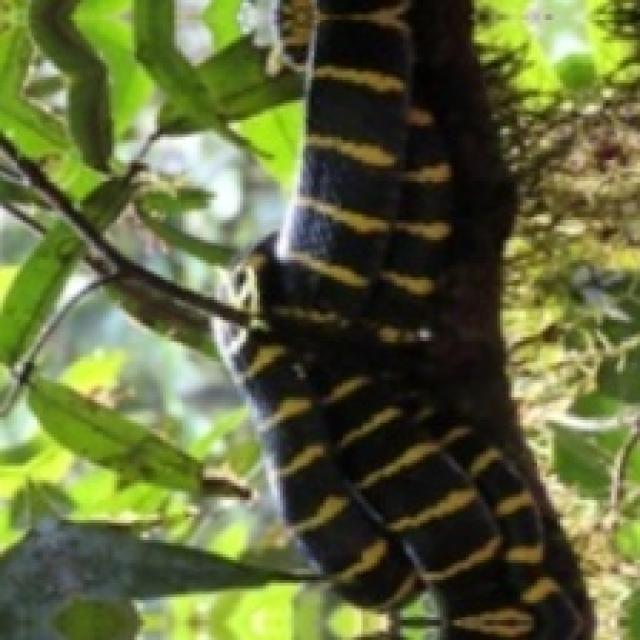mangrove cat snake: (218, 0, 578, 640)
